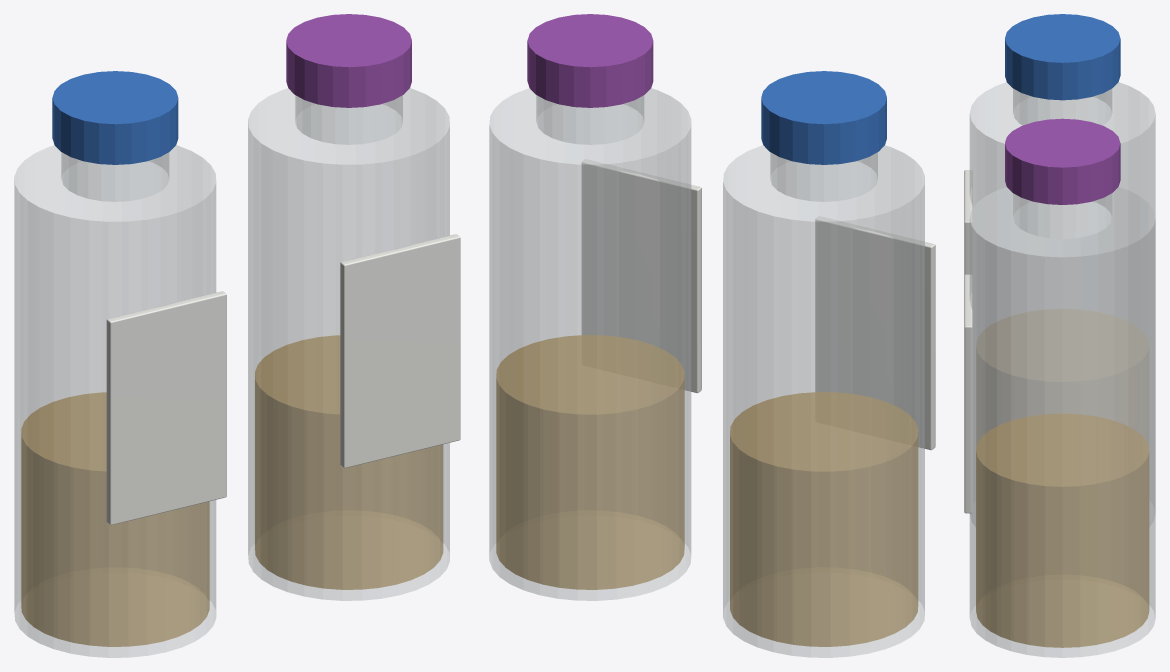
File: blood_culture_bottles.fbx
3 views of the same model, side by side, from view 1: azimuth 30°, elevation 25°; view 2: azimuth 150°, elevation 25°; view 3: azimuth 270°, elevation 25° (orthographic). The views are drawn at different scales.
Parts seen in each view (by area): view 1: EQ_blood_culture_bottles_Body, EQ_blood_culture_bottles_Anaerobic, EQ_blood_culture_bottles_Broth_Anaerobic, EQ_blood_culture_bottles_Broth, EQ_blood_culture_bottles_Barcode_Anaerobic, EQ_blood_culture_bottles_Barcode, EQ_blood_culture_bottles_Cap, EQ_blood_culture_bottles_Cap_Anaerobic, EQ_blood_culture_bottles_Neck, EQ_blood_culture_bottles_Neck_Anaerobic; view 2: EQ_blood_culture_bottles_Anaerobic, EQ_blood_culture_bottles_Body, EQ_blood_culture_bottles_Broth_Anaerobic, EQ_blood_culture_bottles_Broth, EQ_blood_culture_bottles_Barcode, EQ_blood_culture_bottles_Barcode_Anaerobic, EQ_blood_culture_bottles_Cap_Anaerobic, EQ_blood_culture_bottles_Cap, EQ_blood_culture_bottles_Neck_Anaerobic, EQ_blood_culture_bottles_Neck; view 3: EQ_blood_culture_bottles_Anaerobic, EQ_blood_culture_bottles_Broth_Anaerobic, EQ_blood_culture_bottles_Body, EQ_blood_culture_bottles_Broth, EQ_blood_culture_bottles_Cap, EQ_blood_culture_bottles_Cap_Anaerobic, EQ_blood_culture_bottles_Neck_Anaerobic, EQ_blood_culture_bottles_Neck, EQ_blood_culture_bottles_Barcode_Anaerobic, EQ_blood_culture_bottles_Barcode.
Part boxes in pixels (left/top/right/bottom): EQ_blood_culture_bottles_Body: left=14, top=145, right=216, bottom=657; EQ_blood_culture_bottles_Anaerobic: left=248, top=88, right=449, bottom=600; EQ_blood_culture_bottles_Broth_Anaerobic: left=255, top=335, right=443, bottom=589; EQ_blood_culture_bottles_Broth: left=21, top=392, right=209, bottom=646; EQ_blood_culture_bottles_Barcode_Anaerobic: left=340, top=234, right=460, bottom=468; EQ_blood_culture_bottles_Barcode: left=106, top=291, right=226, bottom=525; EQ_blood_culture_bottles_Cap: left=52, top=71, right=178, bottom=164; EQ_blood_culture_bottles_Cap_Anaerobic: left=286, top=14, right=411, bottom=107; EQ_blood_culture_bottles_Neck: left=61, top=152, right=169, bottom=201; EQ_blood_culture_bottles_Neck_Anaerobic: left=295, top=95, right=402, bottom=144; EQ_blood_culture_bottles_Anaerobic: left=489, top=88, right=691, bottom=600; EQ_blood_culture_bottles_Body: left=723, top=145, right=924, bottom=657; EQ_blood_culture_bottles_Broth_Anaerobic: left=496, top=335, right=684, bottom=589; EQ_blood_culture_bottles_Broth: left=730, top=392, right=918, bottom=646; EQ_blood_culture_bottles_Barcode: left=815, top=216, right=935, bottom=450; EQ_blood_culture_bottles_Barcode_Anaerobic: left=582, top=159, right=701, bottom=393; EQ_blood_culture_bottles_Cap_Anaerobic: left=527, top=14, right=653, bottom=107; EQ_blood_culture_bottles_Cap: left=761, top=71, right=886, bottom=164; EQ_blood_culture_bottles_Neck_Anaerobic: left=536, top=95, right=644, bottom=144; EQ_blood_culture_bottles_Neck: left=770, top=152, right=877, bottom=201; EQ_blood_culture_bottles_Anaerobic: left=969, top=187, right=1155, bottom=657; EQ_blood_culture_bottles_Broth_Anaerobic: left=976, top=413, right=1149, bottom=647; EQ_blood_culture_bottles_Body: left=969, top=82, right=1155, bottom=526; EQ_blood_culture_bottles_Broth: left=976, top=309, right=1148, bottom=445; EQ_blood_culture_bottles_Cap: left=1005, top=14, right=1120, bottom=100; EQ_blood_culture_bottles_Cap_Anaerobic: left=1005, top=118, right=1120, bottom=204; EQ_blood_culture_bottles_Neck_Anaerobic: left=1013, top=193, right=1112, bottom=238; EQ_blood_culture_bottles_Neck: left=1013, top=88, right=1112, bottom=125; EQ_blood_culture_bottles_Barcode_Anaerobic: left=964, top=274, right=972, bottom=513; EQ_blood_culture_bottles_Barcode: left=964, top=170, right=972, bottom=275.
Size of the model in its own units: 0.105 by 0.127 by 0.0463.
